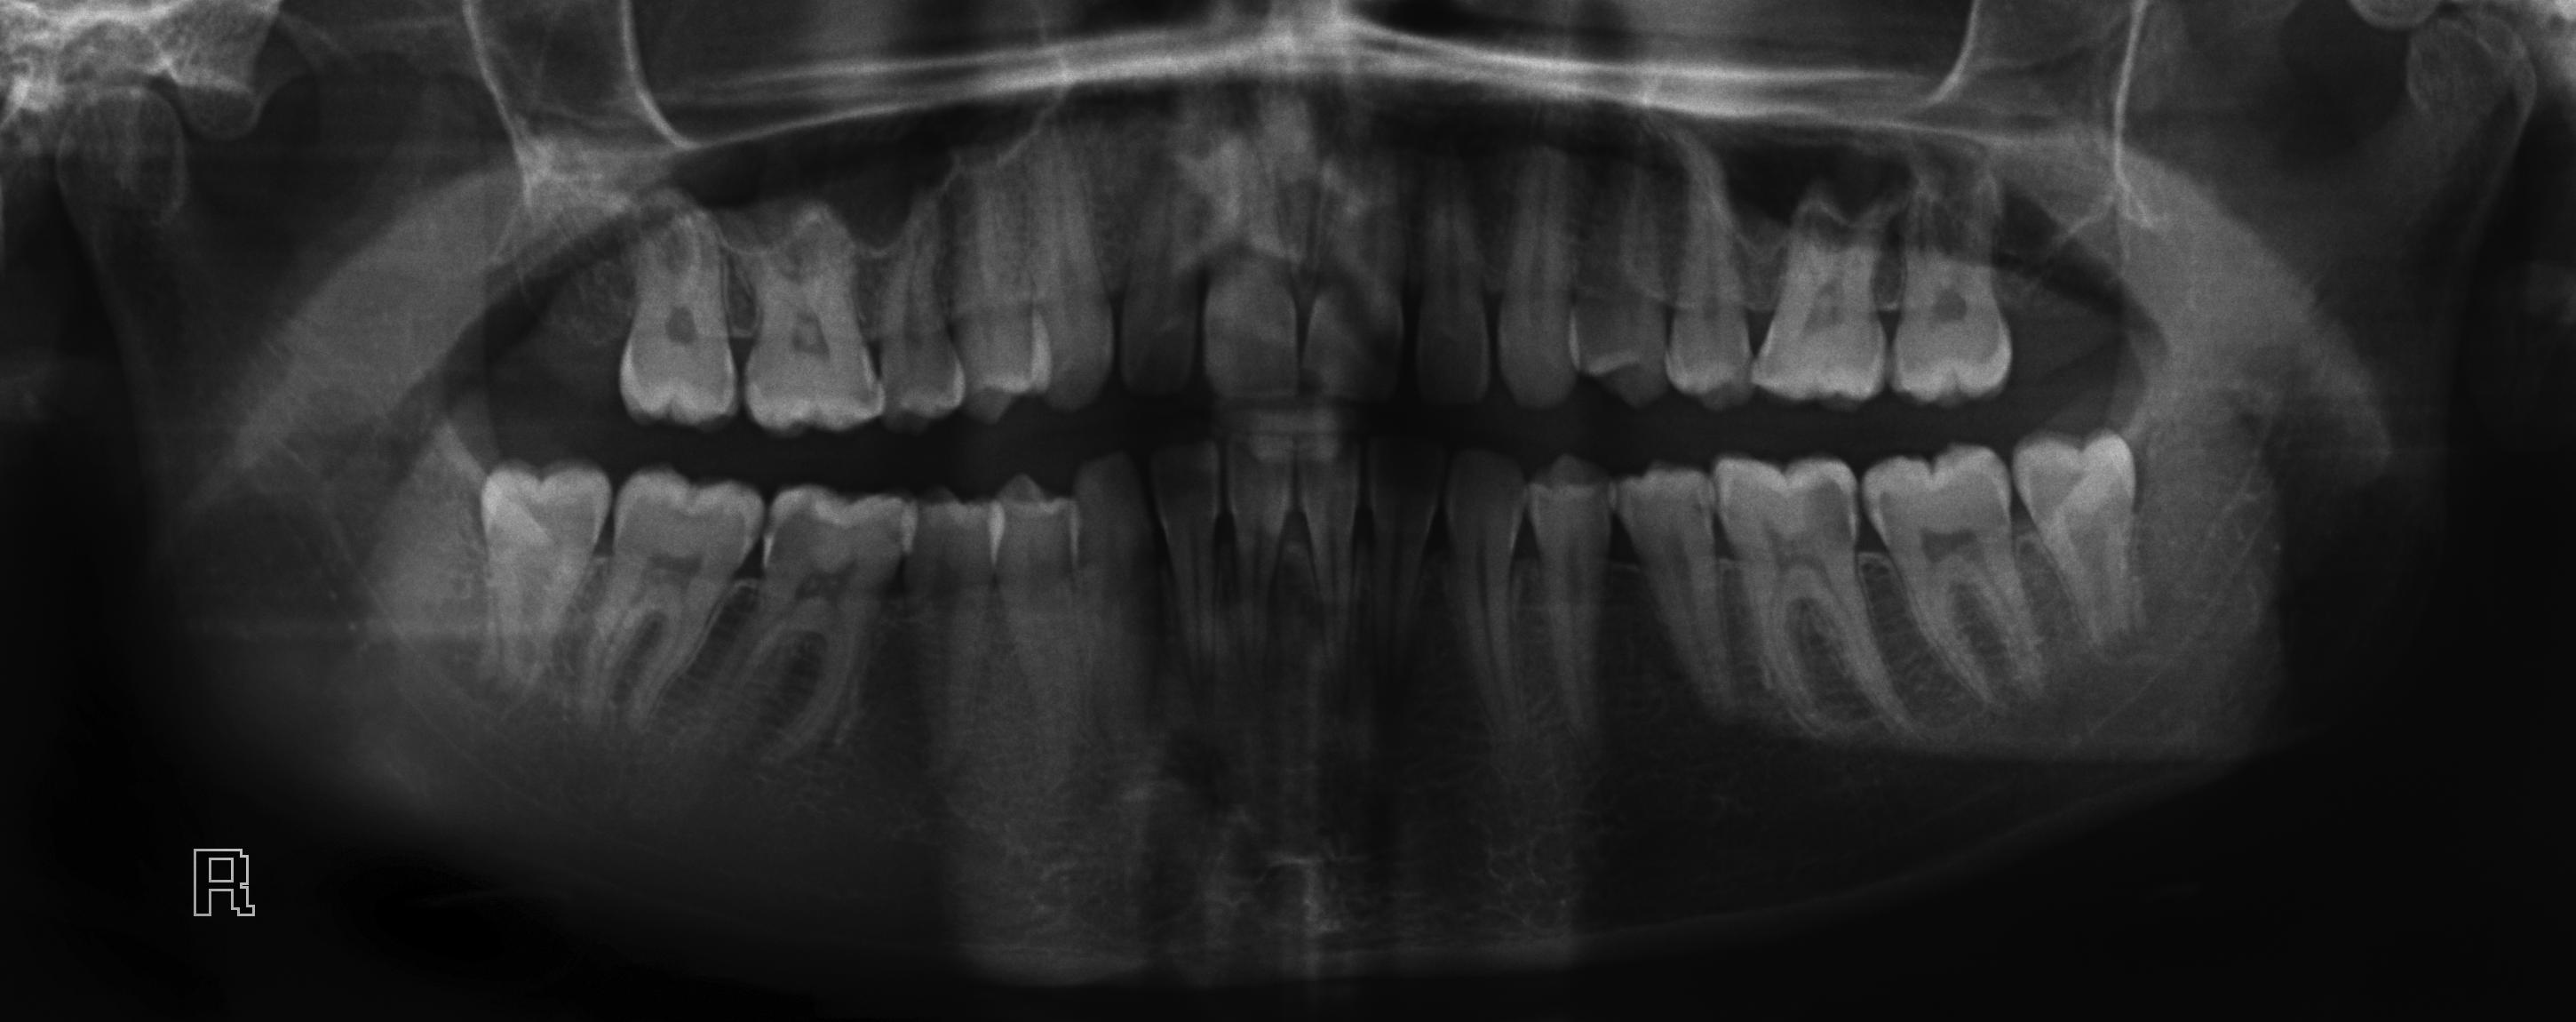Çürük Bölgesi: (1796, 468, 1863, 550), (1868, 473, 1901, 560), (747, 495, 798, 541), (874, 516, 928, 557), (1750, 325, 1791, 378)
